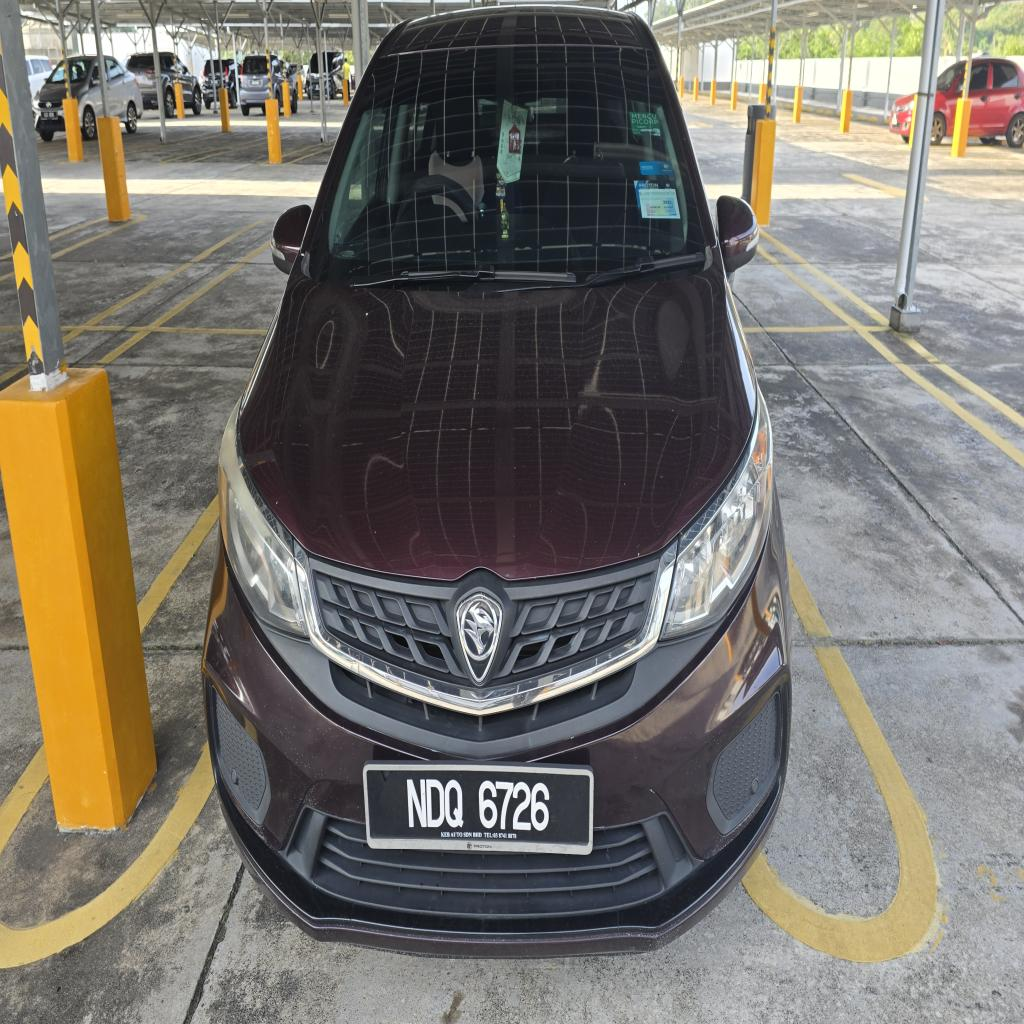car: (203, 8, 791, 956)
car plate: (364, 762, 593, 854)
